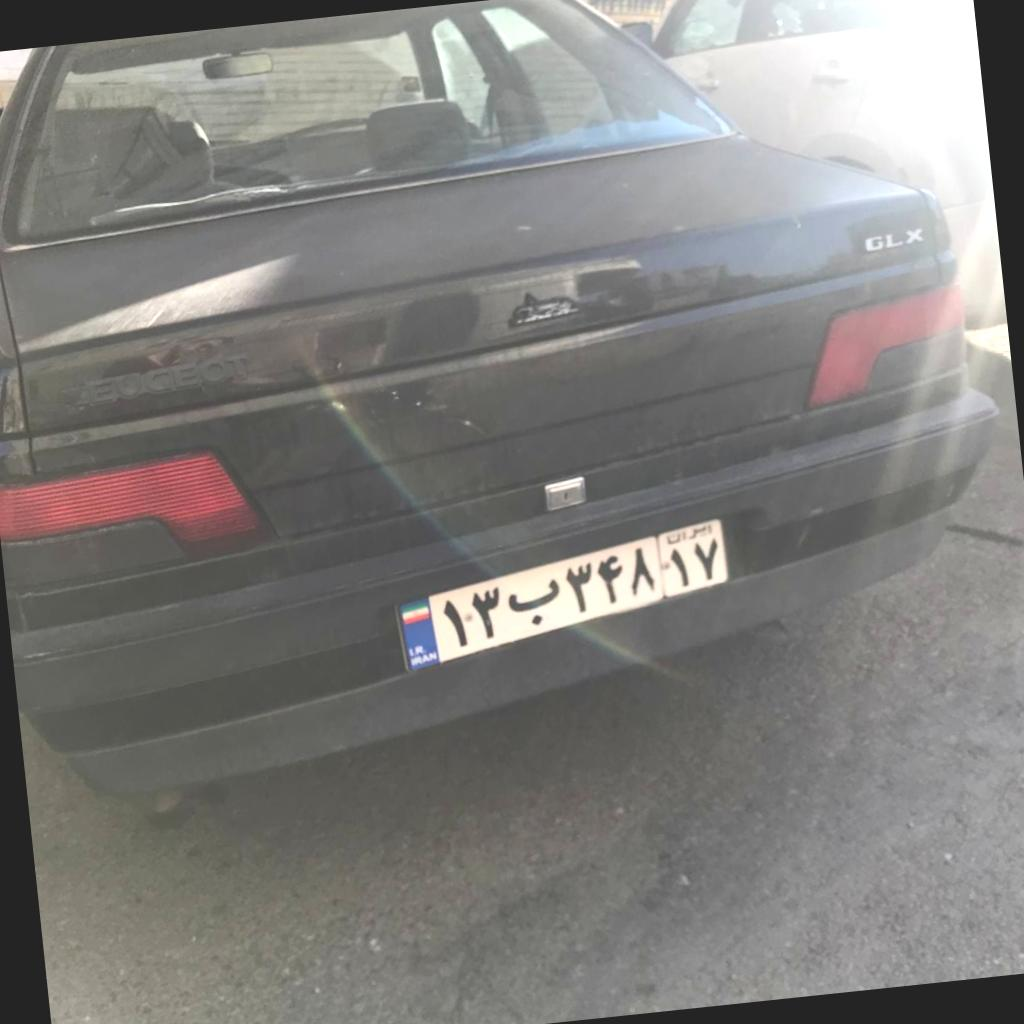Plates: (397, 517, 728, 672)
